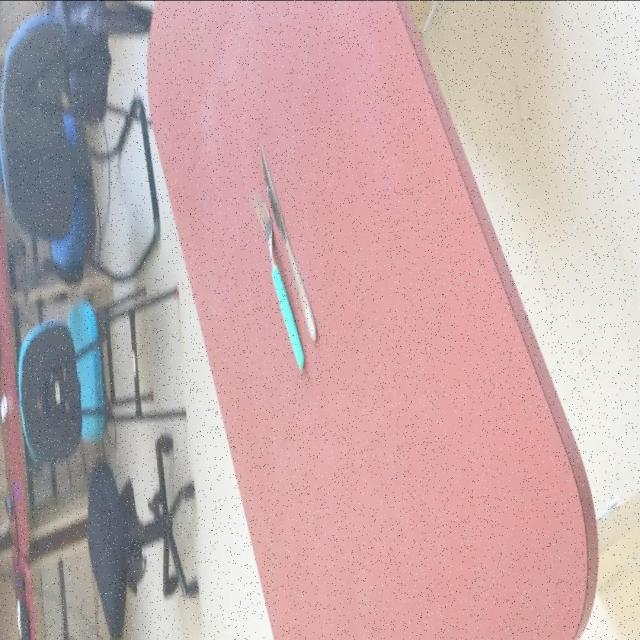Fork: (251, 191, 305, 374)
Knife: (258, 146, 318, 344), (251, 190, 305, 373)
